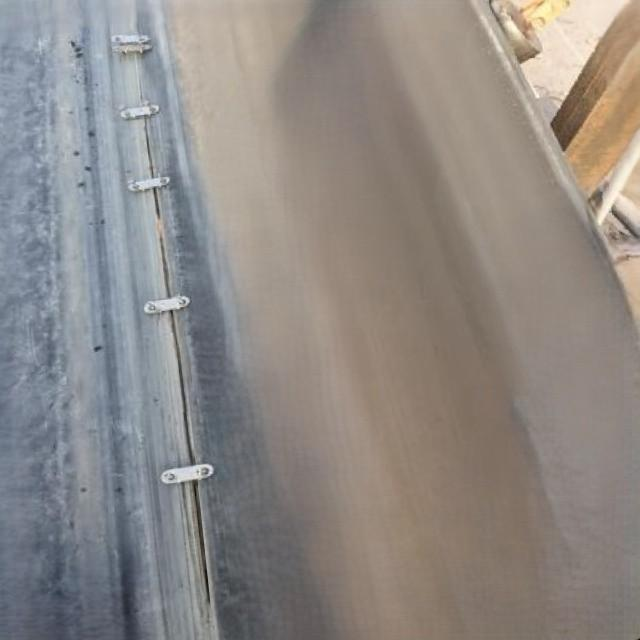Tear: (138, 114, 216, 608)
